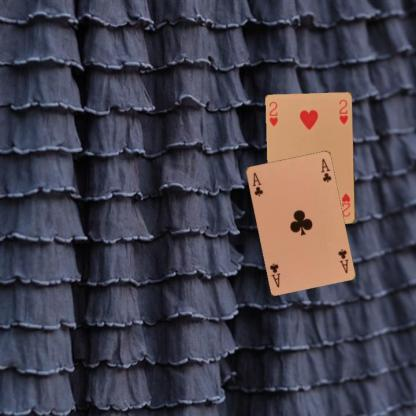2h: (266, 98, 279, 127), (339, 191, 352, 218)
Ac: (335, 246, 350, 275), (250, 170, 264, 197)
